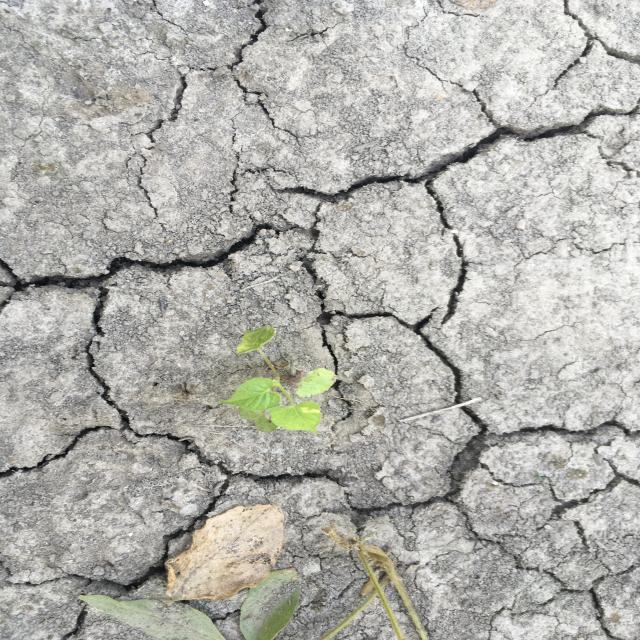MorningGlory: (217, 326, 339, 436)
